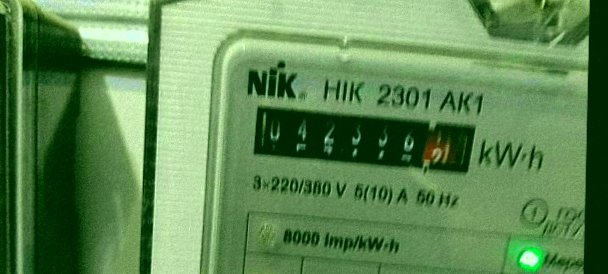0: (268, 114, 282, 143)
2: (320, 117, 338, 144)
3: (347, 118, 363, 147), (376, 119, 390, 147)
4: (294, 115, 310, 143)
6: (401, 126, 416, 153)
screen: (242, 96, 484, 183)
